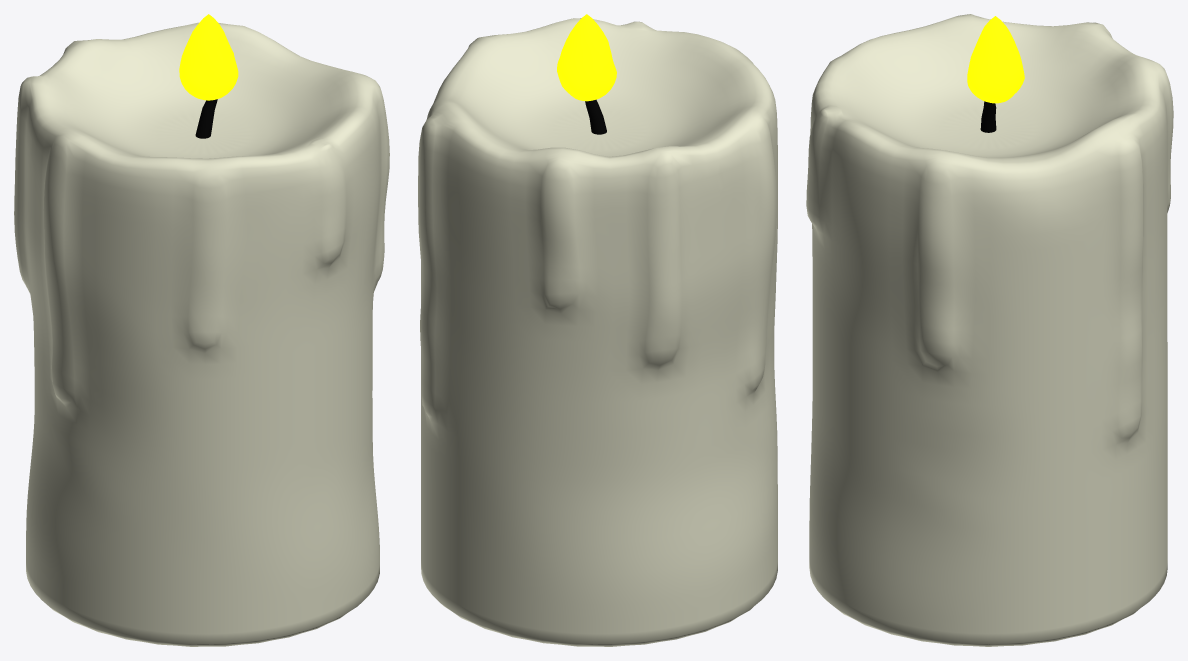
Rendered from uploads_files_4857616_Candle.fbx.
3 views of the same model, side by side, from view 1: azimuth 30°, elevation 25°; view 2: azimuth 150°, elevation 25°; view 3: azimuth 270°, elevation 25° (orthographic).
Visible parts, largest first — view 1: Cylinder, Sphere, Cylinder.001; view 2: Cylinder, Sphere; view 3: Cylinder, Sphere.
Boxes of the visible parts, x1,y1,x2,y2 form: Cylinder: (14,22,389,646); Sphere: (179,14,238,100); Cylinder.001: (195,99,217,138); Cylinder: (418,18,777,646); Sphere: (557,14,616,101); Cylinder: (806,14,1173,646); Sphere: (967,16,1024,103).
Size of the model in its own units: 209 by 345 by 204.
